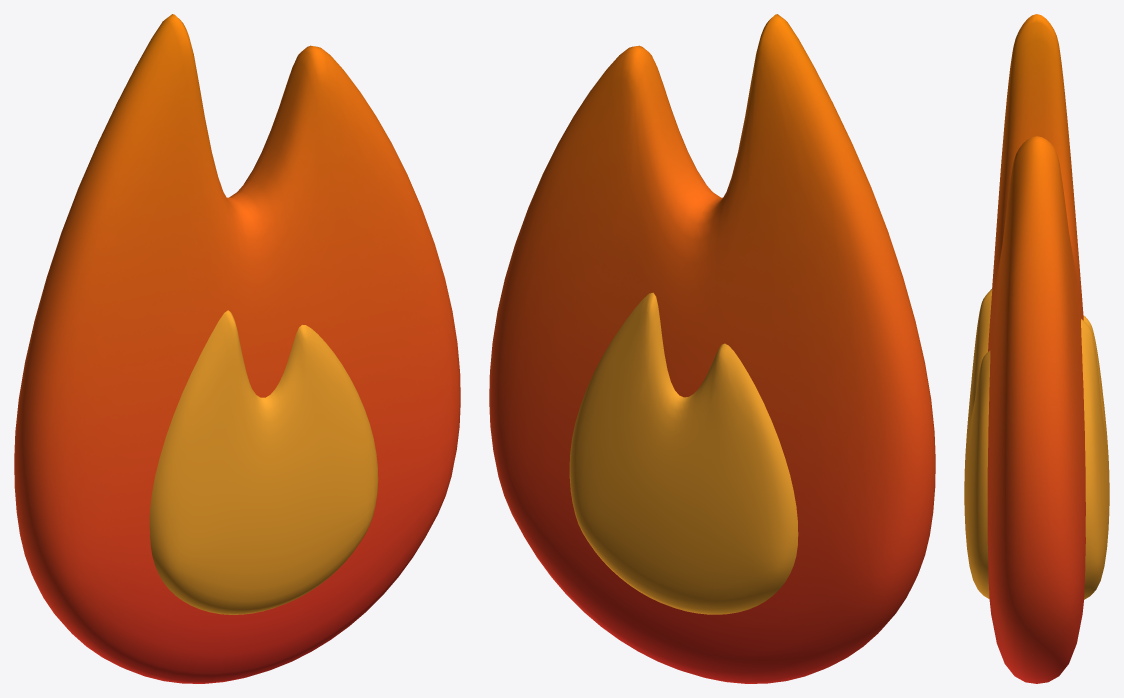
File: Fire.gltf
3 renders of one model, left to right at view 1: azimuth 30°, elevation 25°; view 2: azimuth 150°, elevation 25°; view 3: azimuth 270°, elevation 25°, orthographic. The views are drawn at different scales.
Visible parts, largest first — view 1: Cube.225, Cube.226; view 2: Cube.225, Cube.226; view 3: Cube.225, Cube.226.
Boxes of the visible parts, x1,y1,x2,y2 form: Cube.225: (14,14,460,683); Cube.226: (149,310,378,614); Cube.225: (489,14,935,683); Cube.226: (569,292,798,614); Cube.225: (987,14,1085,683); Cube.226: (964,289,1109,599).
Bounding box in the file's own units: 1.23 × 1.84 × 0.39.
Materials: 2 (2 with a texture image).
